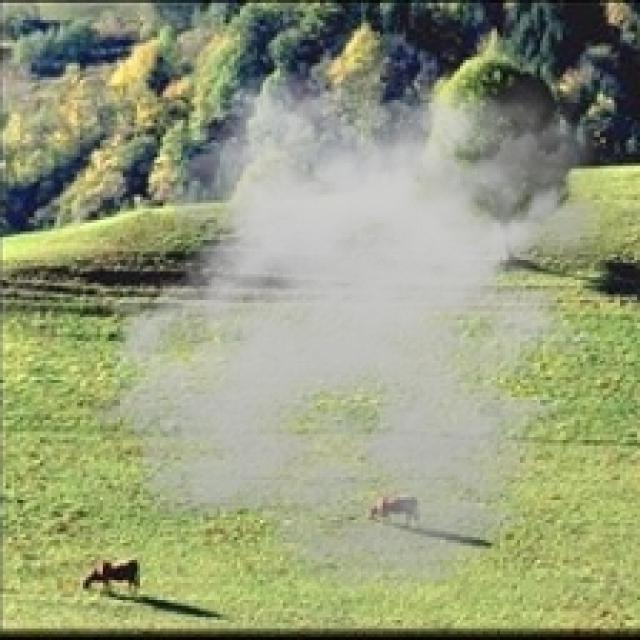smoke: (91, 55, 634, 594)
